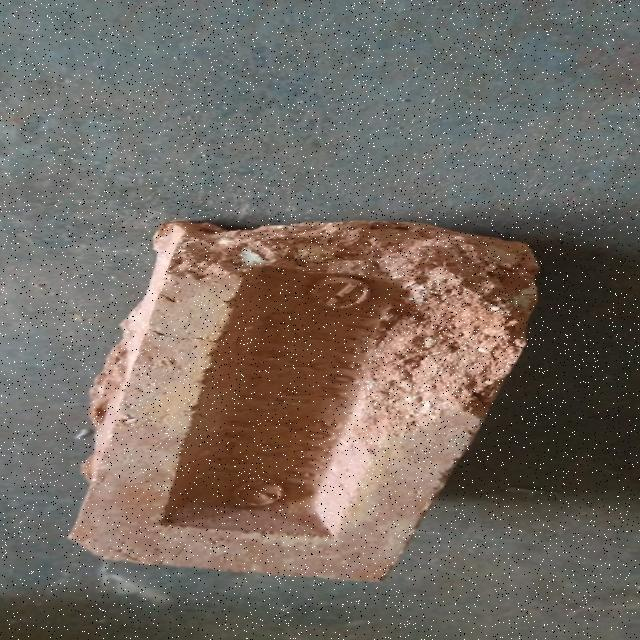bricks_ruin: (69, 217, 543, 594)
